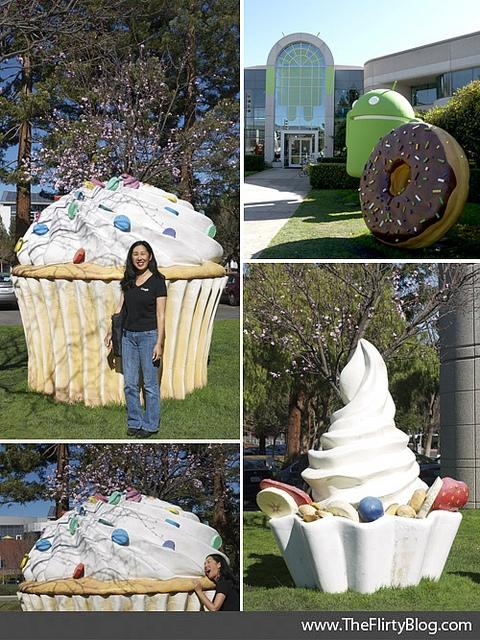banana: (256, 487, 298, 519), (416, 476, 443, 518), (324, 500, 362, 522)
strawberry: (260, 478, 313, 508), (431, 476, 469, 512)
